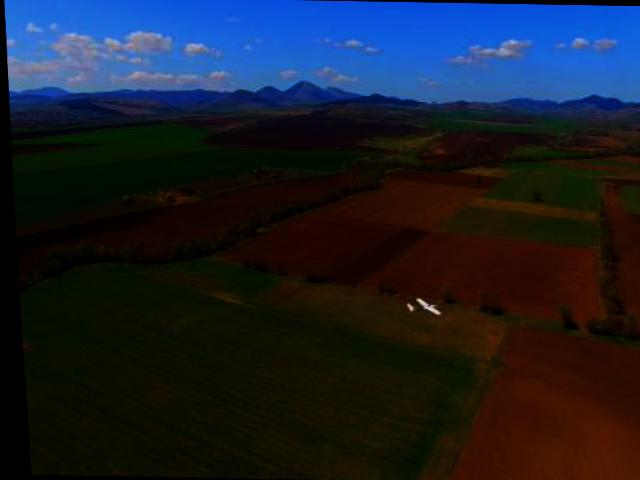uav: (397, 286, 443, 324)
